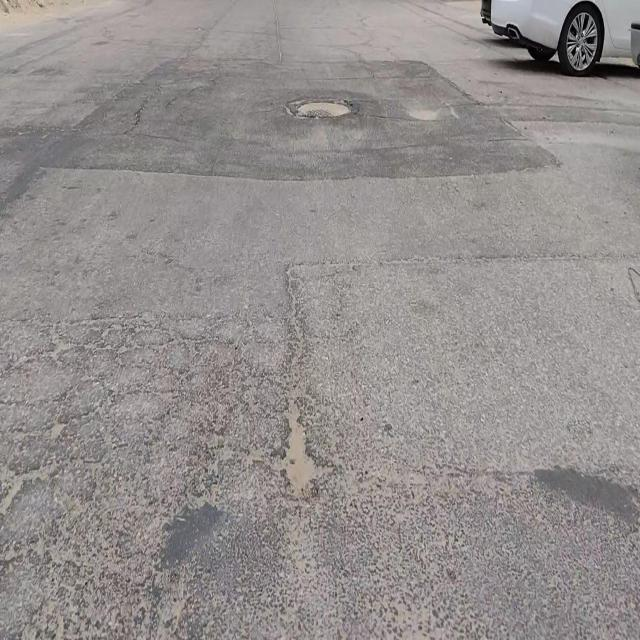Potholes: (294, 95, 352, 120)
